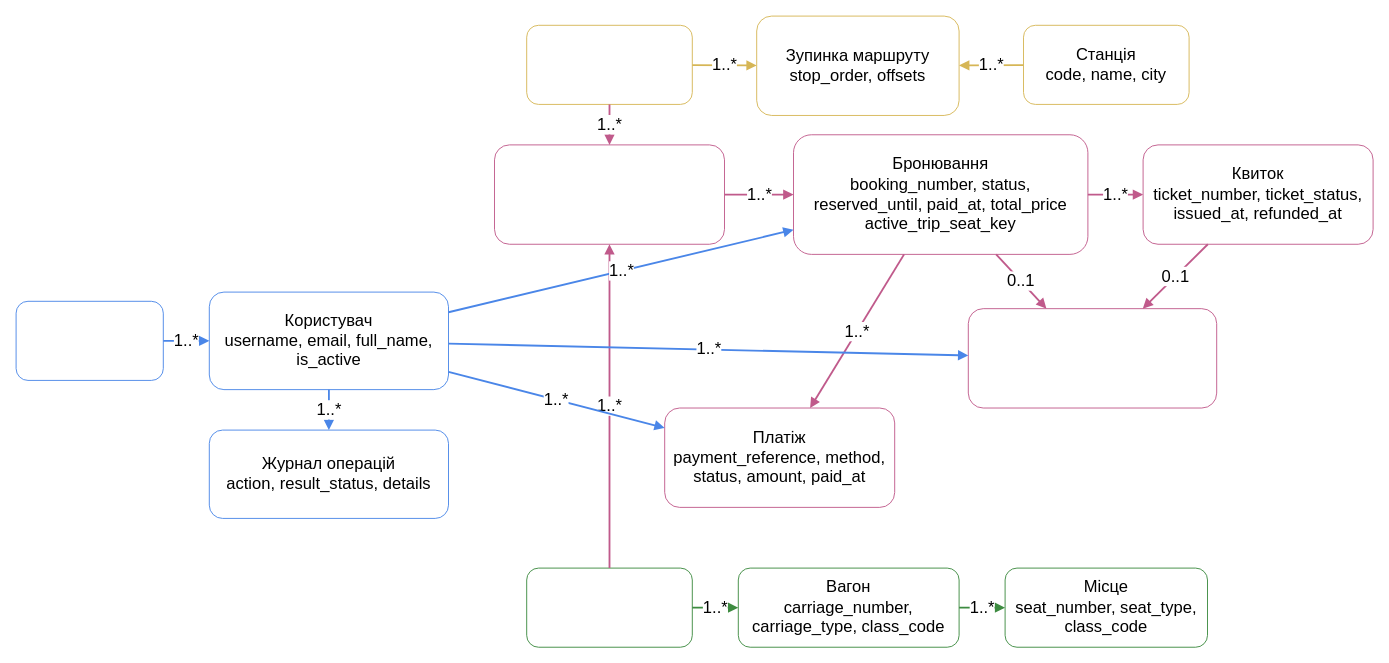
The diagram is 1389 pixels wide and 663 high, and some of its shapes have lost their labels. The centre of each missing label's shape, as x and y in pixels:
"Маршрут code, name" belongs at (x=609, y=64).
"Повернення refund_reference, status, amount, refunded_at" belongs at (x=1092, y=358).
"Потяг code, name, category" belongs at (x=609, y=607).
"Рейс trip_code, departure_datetime, arrival_datetime, status" belongs at (x=609, y=194).
"Роль code, name" belongs at (x=89, y=340).
